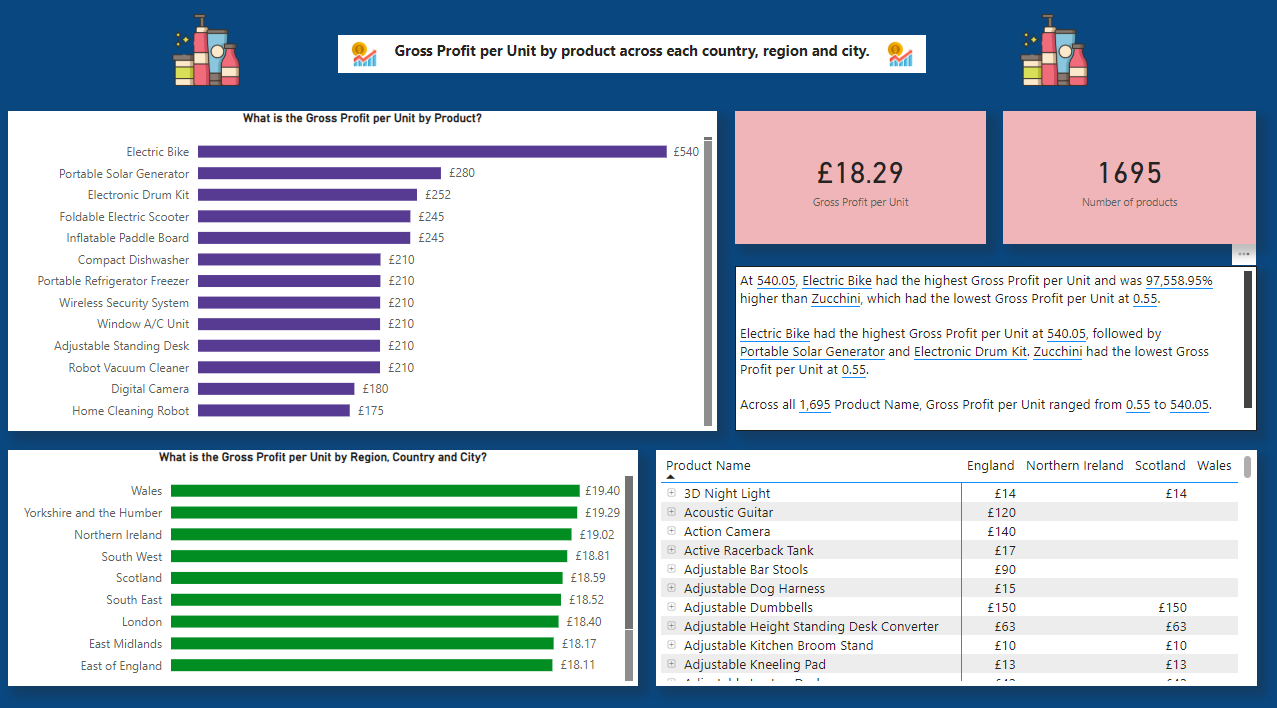

Layout of this report page (visuals, bound fields, positions):
{"tool":"powerbi","page":{"name":"Gross profit per unit by product","canvas":[1280,720],"ordinal":4},"visuals":[{"type":"clusteredBarChart","title":"What is the Gross Profit per Unit by Product?","fields":{"Y":["0-Measure.Gross Profit per unit"],"Category":["Ace Superstore RetailFact.Product Name"]},"box":[9.7,113.8,709.1,320],"z":0},{"type":"clusteredBarChart","title":"What is the Gross Profit per Unit by Region, Country and City?","fields":{"Y":["0-Measure.Gross Profit per unit"],"Category":["Ace Superstore RetailFact.Region-Adjusted","Ace Superstore RetailFact.Country-Adjusted","Ace Superstore RetailFact.City"]},"box":[9.7,453.3,630.3,235.4],"z":1000},{"type":"pivotTable","fields":{"Values":["0-Measure.Gross Profit per Unit"],"Rows":["Ace Superstore RetailFact.Product Name","Ace Superstore RetailFact.Region-Adjusted","Ace Superstore RetailFact.City"],"Columns":["Ace Superstore RetailFact.Country-Adjusted"]},"box":[657.5,453.3,601.1,235.4],"z":2000},{"type":"textbox","box":[737.3,269.4,521.3,164.4],"z":3000},{"type":"card","fields":{"Values":["0-Measure.Gross Profit per Unit"]},"box":[737.3,113.8,250.9,133.3],"z":4000},{"type":"textbox","box":[340.4,37.9,587.5,37.9],"z":5000},{"type":"card","fields":{"Values":["Count(Ace Superstore RetailFact.Product ID)"]},"box":[1004.7,113.8,252.9,133.3],"z":6000},{"type":"image","box":[877.3,37.9,50.6,39.9],"z":7000},{"type":"image","box":[340.4,37.9,52.5,39.9],"z":8000},{"type":"image","box":[164.4,11.7,87.5,82.7],"z":9000},{"type":"image","box":[1013.5,11.7,84.6,82.7],"z":10000}]}

Visuals, with their boxes in screenshot pixels (x1, y1, x2, y2), scaled from the page's 1280x720 canvas onto the 1277x708 screenshot:
"What is the Gross Profit per Unit by Product?" clusteredBarChart: BBox(10, 112, 717, 427)
"What is the Gross Profit per Unit by Region, Country and City?" clusteredBarChart: BBox(10, 446, 638, 677)
pivotTable - 0-Measure.Gross Profit per Unit x Ace Superstore RetailFact.Product Name: BBox(656, 446, 1256, 677)
textbox: BBox(736, 265, 1256, 427)
card - 0-Measure.Gross Profit per Unit: BBox(736, 112, 986, 243)
textbox: BBox(340, 37, 926, 75)
card - Count(Ace Superstore RetailFact.Product ID): BBox(1002, 112, 1255, 243)
image: BBox(875, 37, 926, 77)
image: BBox(340, 37, 392, 77)
image: BBox(164, 12, 251, 93)
image: BBox(1011, 12, 1096, 93)
